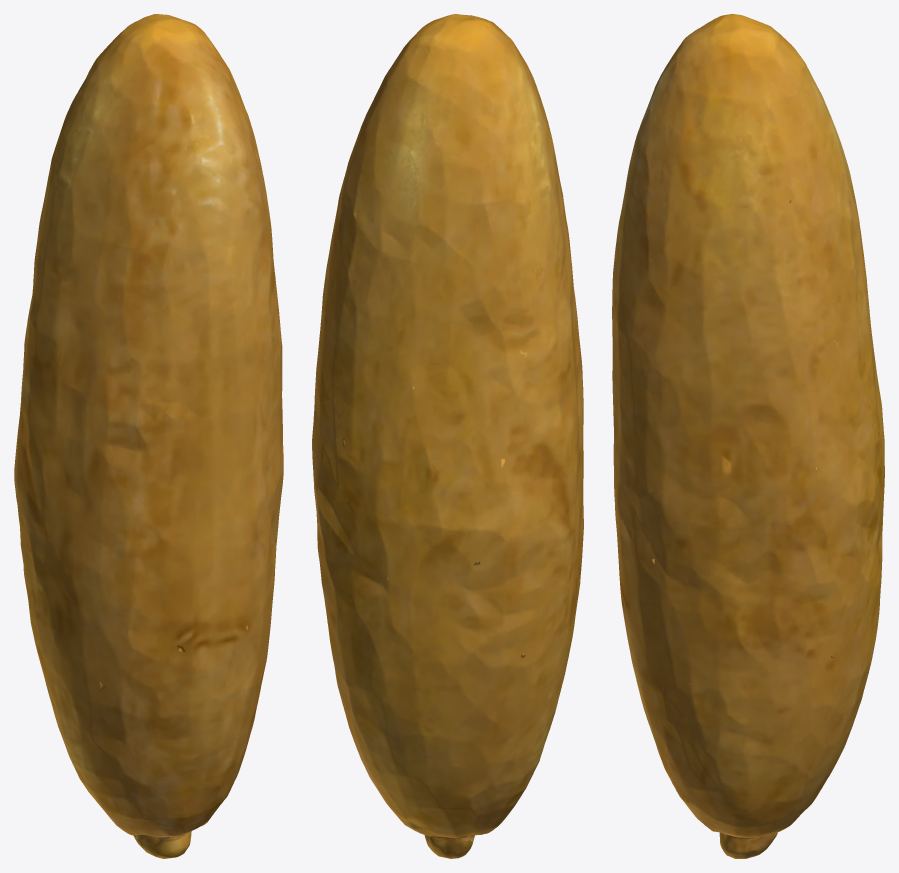
File: giardia-duodenalis_H.glb
The picture shows the model from 3 angles, left to right: view 1: azimuth 30°, elevation 25°; view 2: azimuth 150°, elevation 25°; view 3: azimuth 270°, elevation 25°; orthographic projection.
Bounding box in the file's own units: 0.5832 × 1.99 × 0.5917.
Materials: 1 (1 with a texture image).
